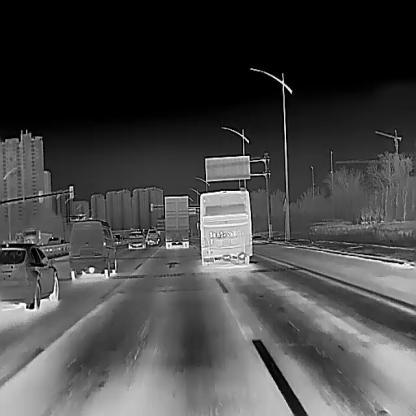car: (199, 187, 251, 265), (0, 243, 60, 308), (68, 219, 118, 280), (165, 195, 189, 248), (21, 228, 51, 244), (128, 230, 146, 249), (144, 227, 161, 245), (47, 236, 61, 243)
